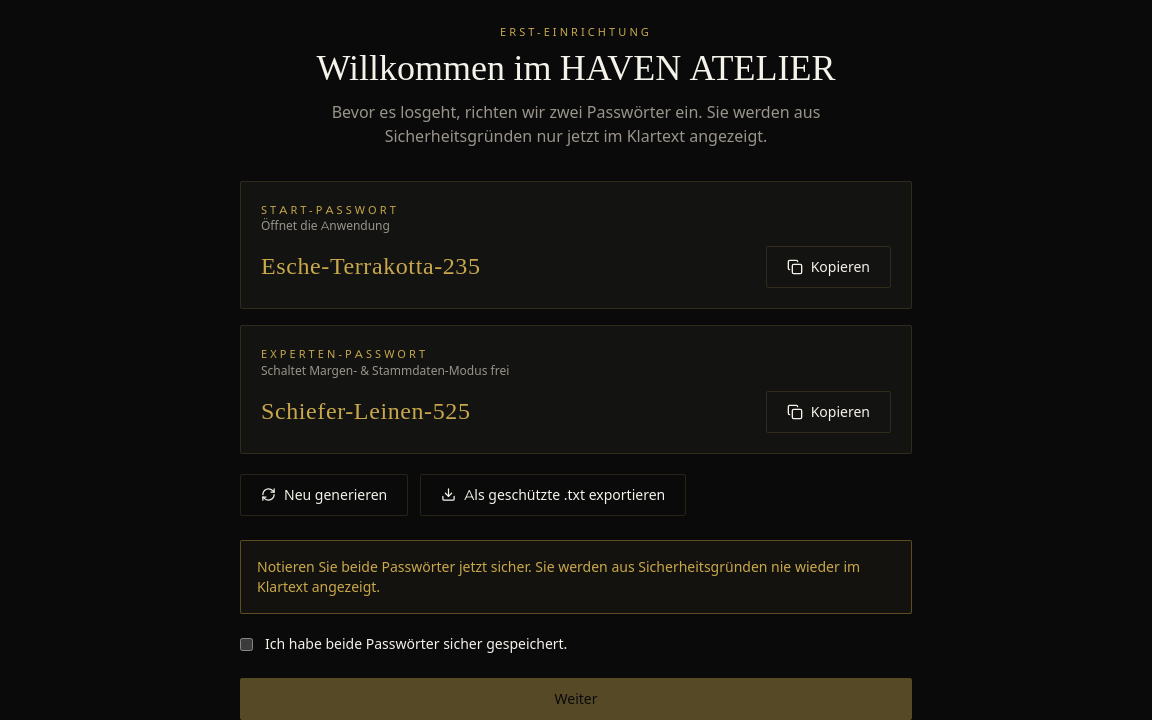
Test: Integration — App-Flow (jsdom) › Erst-Setup zeigt beide Passwörter genau einmal und schaltet danach frei
The width and height of the screenshot is (1152, 720).
Check: the button with test id "setup-continue" is disabled, box [240,678,912,719]
Click the checkbox with test id "confirm-pw".
click(246, 644)  # box [240,638,253,650]
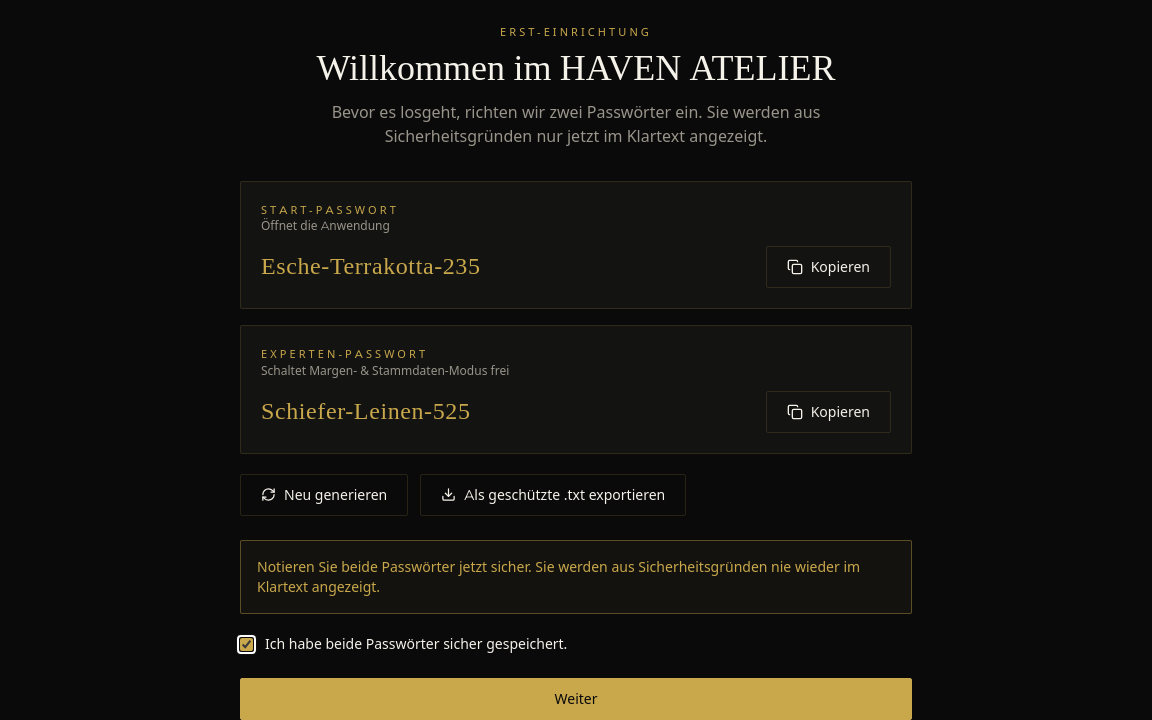
Check: the button with test id "setup-continue" is enabled
Click the button with test id "setup-continue".
click(576, 698)  # box [240,678,912,719]
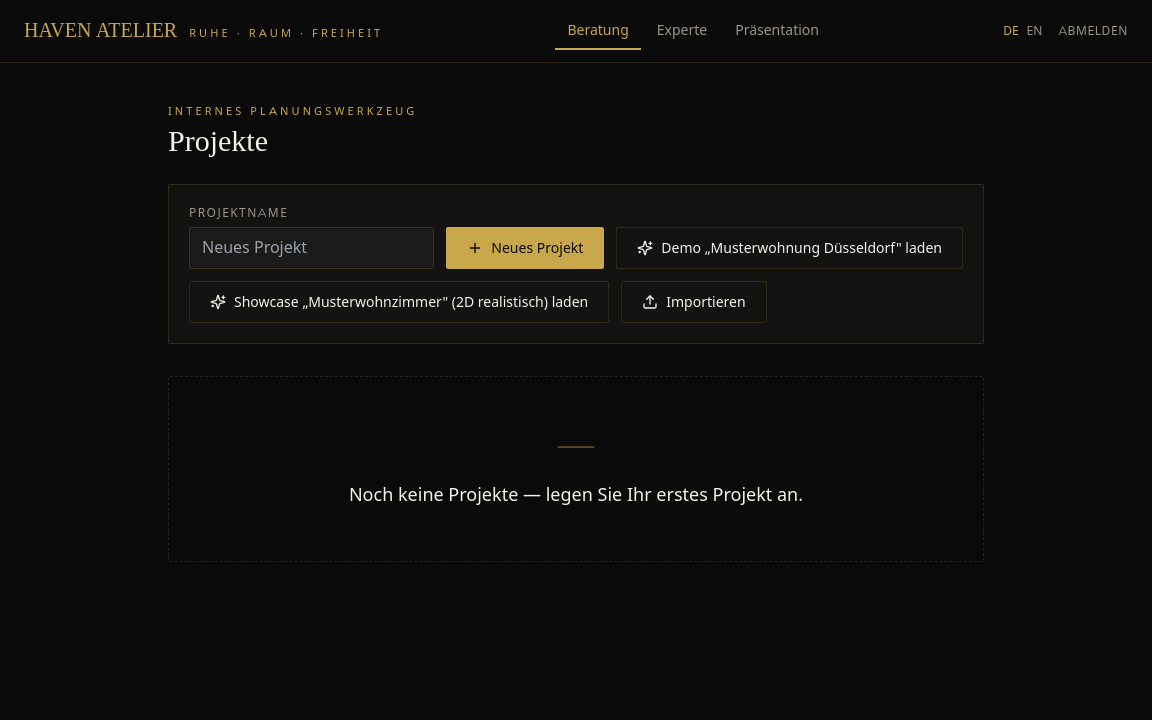
Check: the button with test id "seed-demo" is shown, box [616,226,963,268]
Check: the text with test id "pw-start" is gone
